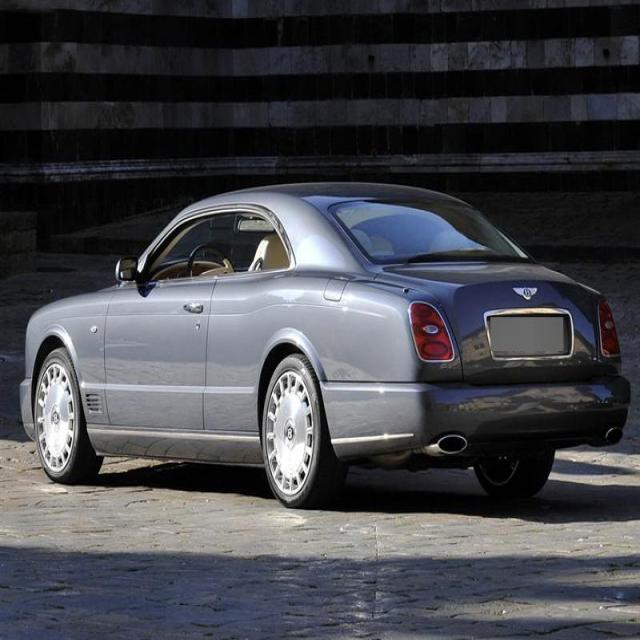back_glass: (326, 193, 531, 268)
back_left_side_light: (405, 297, 455, 364)
back_right_side_light: (595, 295, 622, 359)
front_bumper: (19, 366, 41, 437)
front_left_side_door: (100, 268, 218, 436)
front_left_side_mirror: (115, 253, 144, 285)
rear_bumper: (314, 365, 634, 464)
wheel: (264, 354, 342, 504), (32, 346, 103, 484), (473, 447, 556, 500)
